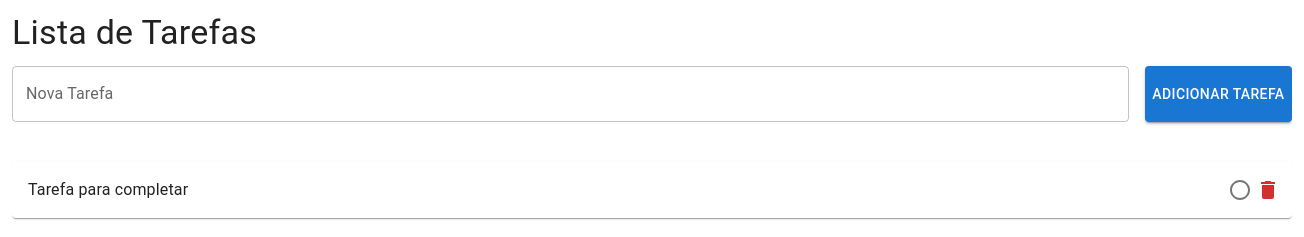
Scenario: TodoList › deve atualizar uma tarefa para completada
Click the button named "complete".
click(1240, 190)  # box [1220,170,1260,210]
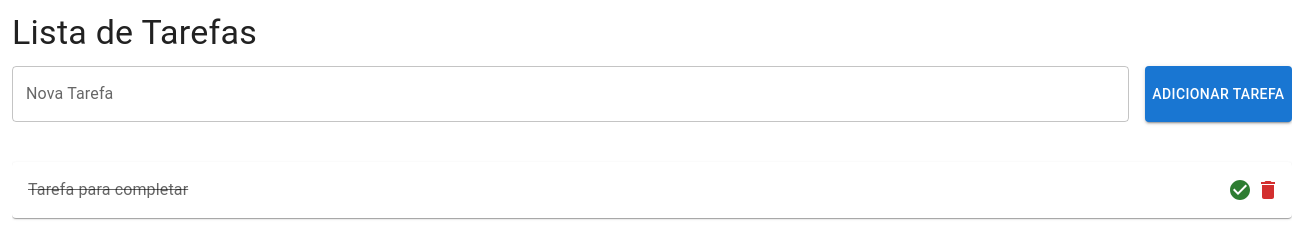
Expected: the icon with test id "CheckCircleIcon" is shown, [1228,178,1252,202]
